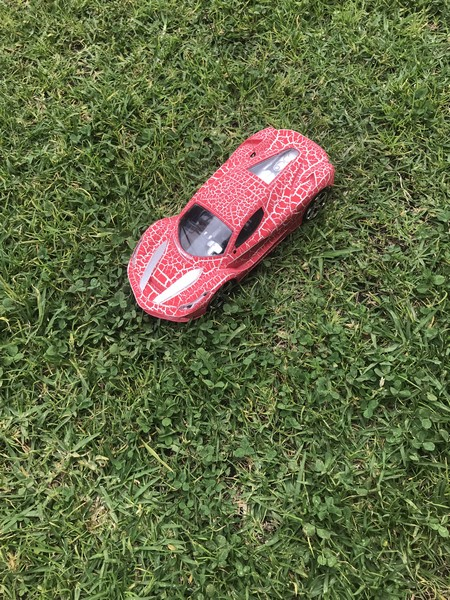RC: (125, 125, 337, 327)
